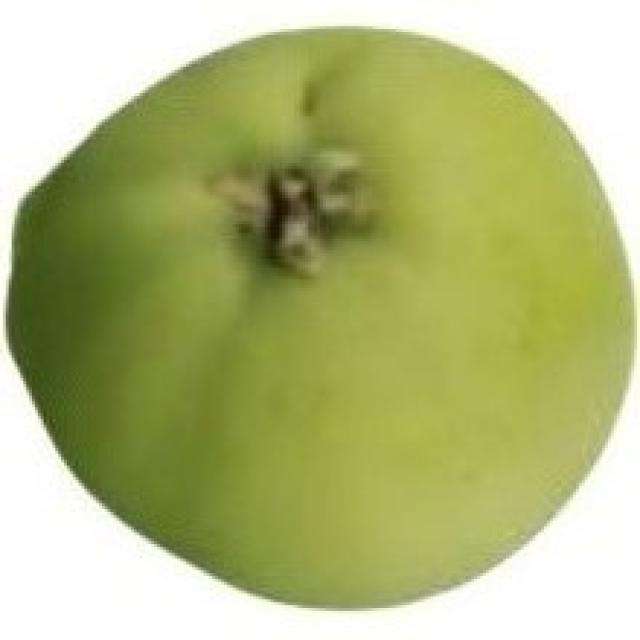50-_ripeness: (16, 26, 634, 604)
